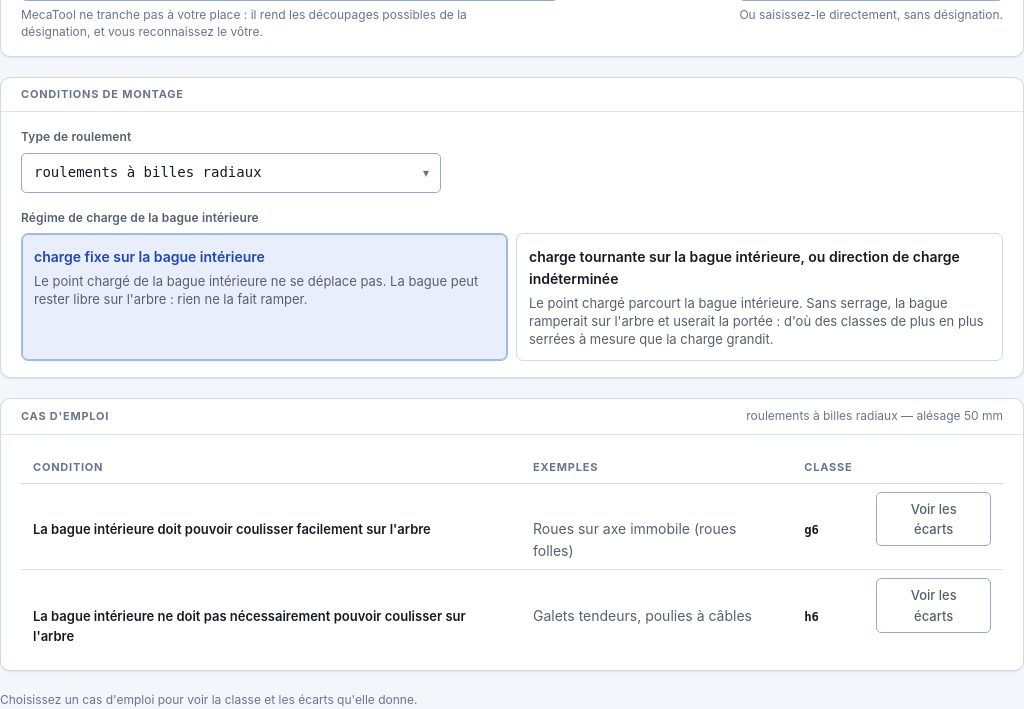
écran des roulements › sépare la classe recommandée des écarts qui en découlent
(page scrolled)
What coordinates should you click on to do the following:
click the 4th button named "Voir les écarts"
I would click on:
 (934, 519)
Its box is [876,492,991,546].
(page scrolled)
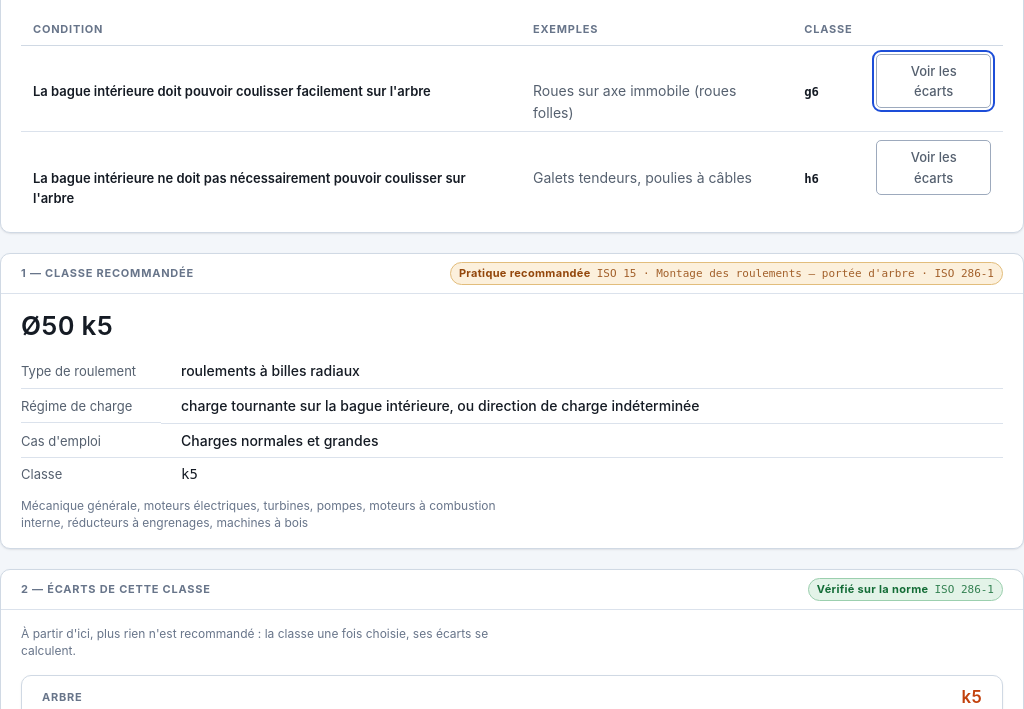
expect the 5th text "1 — Classe recommandée" is shown: met, box [21,266,194,280]
expect the 2nd text "Pratique recommandée" is shown: met, box [459,266,591,280]
expect the 5th text "Vérifié sur la norme" is shown: met, box [817,582,928,596]
